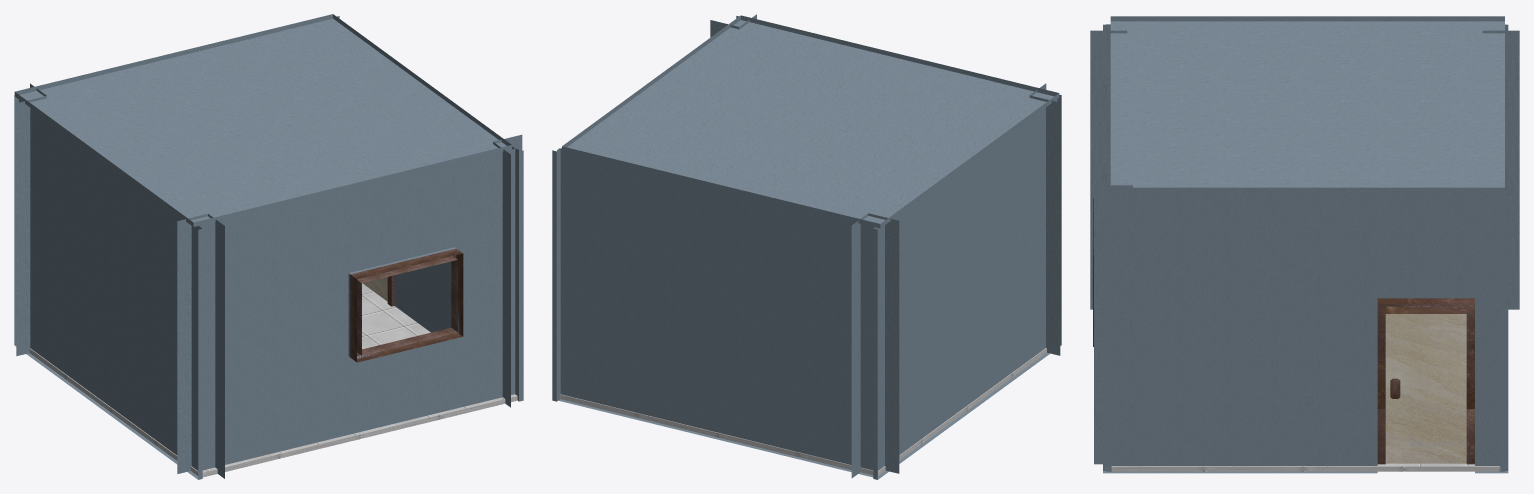
Rendered from DentalRoom.FBX.
3 views of the same model, side by side, from view 1: azimuth 30°, elevation 25°; view 2: azimuth 150°, elevation 25°; view 3: azimuth 270°, elevation 25° (orthographic). The views are drawn at different scales.
Parts seen in each view (by area): view 1: Wall003, Roof, Pillar002, floor, Window; view 2: Wall003, Roof, Pillar002, floor; view 3: Wall003, Roof, DoorMain, Pillar002, DoorFrame, floor.
Boxes of the visible parts, bbox=[...] form: Wall003: bbox=[14, 16, 523, 479]; Roof: bbox=[14, 14, 511, 226]; Pillar002: bbox=[16, 83, 522, 478]; floor: bbox=[29, 283, 517, 477]; Window: bbox=[350, 248, 463, 362]; Wall003: bbox=[552, 16, 1061, 479]; Roof: bbox=[562, 15, 1059, 228]; Pillar002: bbox=[710, 14, 1060, 478]; floor: bbox=[560, 348, 1046, 475]; Wall003: bbox=[1103, 24, 1508, 473]; Roof: bbox=[1110, 16, 1504, 192]; DoorMain: bbox=[1385, 306, 1466, 463]; Pillar002: bbox=[1090, 30, 1519, 464]; DoorFrame: bbox=[1377, 298, 1474, 464]; floor: bbox=[1106, 463, 1500, 471].
Size of the model in its own units: 219 by 153 by 212.
4 materials, 4 textured.
